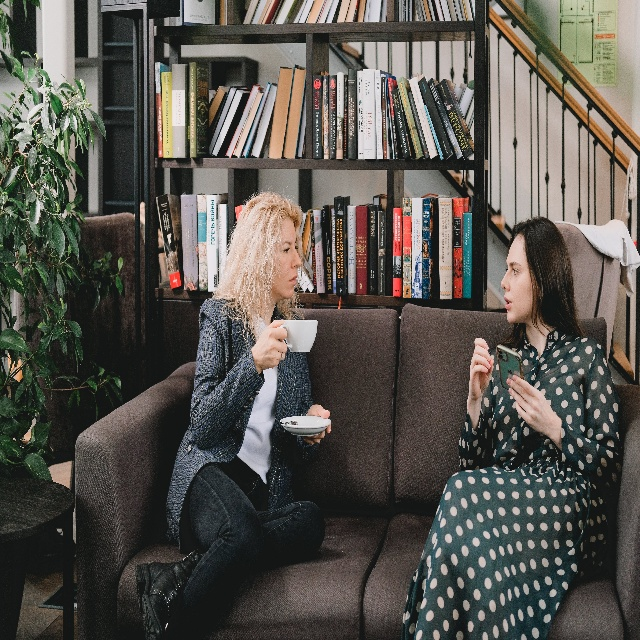Sin_guantes: (506, 375, 554, 436), (254, 319, 288, 369), (468, 337, 494, 400), (301, 403, 332, 446)
